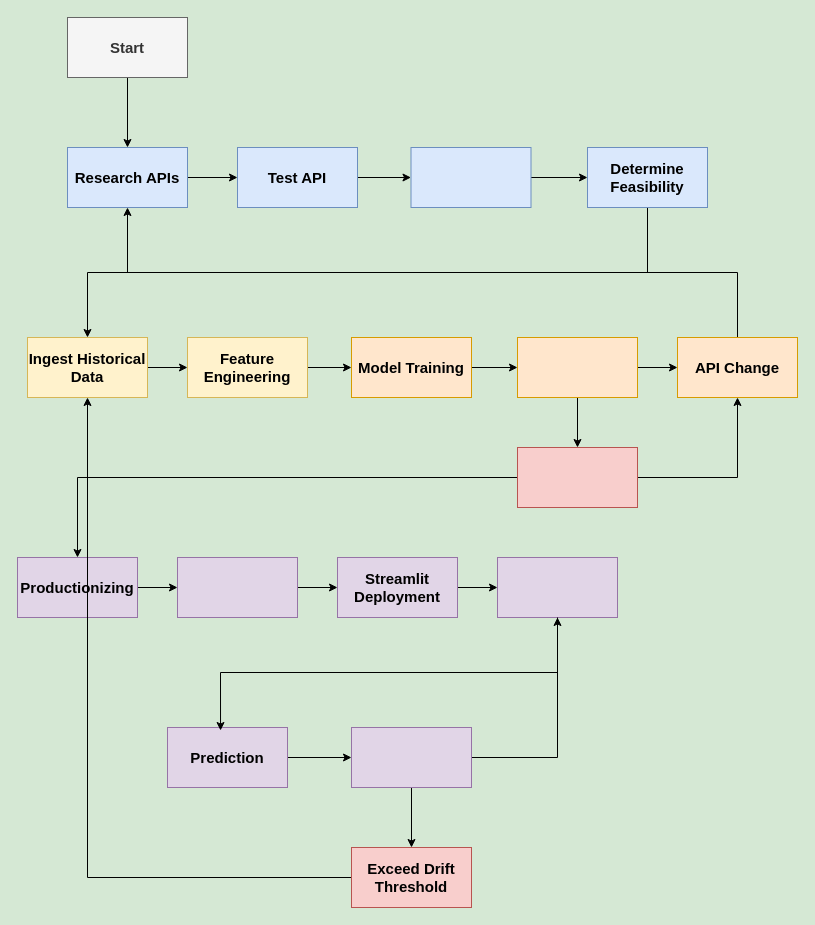
The diagram is 815 pixels wide and 925 high, and some of its shapes have lost their labels. The shapes that lost their labels are listed below. From the top down, each one's box as (x1, y1, x2, y2) in pixels, then its label:
(410, 146, 531, 208): Perform Initial Cleaning
(516, 336, 638, 398): Live API Calls
(516, 446, 638, 508): Sustained Success
(176, 556, 298, 618): Dockerization
(496, 556, 618, 618): API Calls
(350, 726, 472, 788): Monitoring
